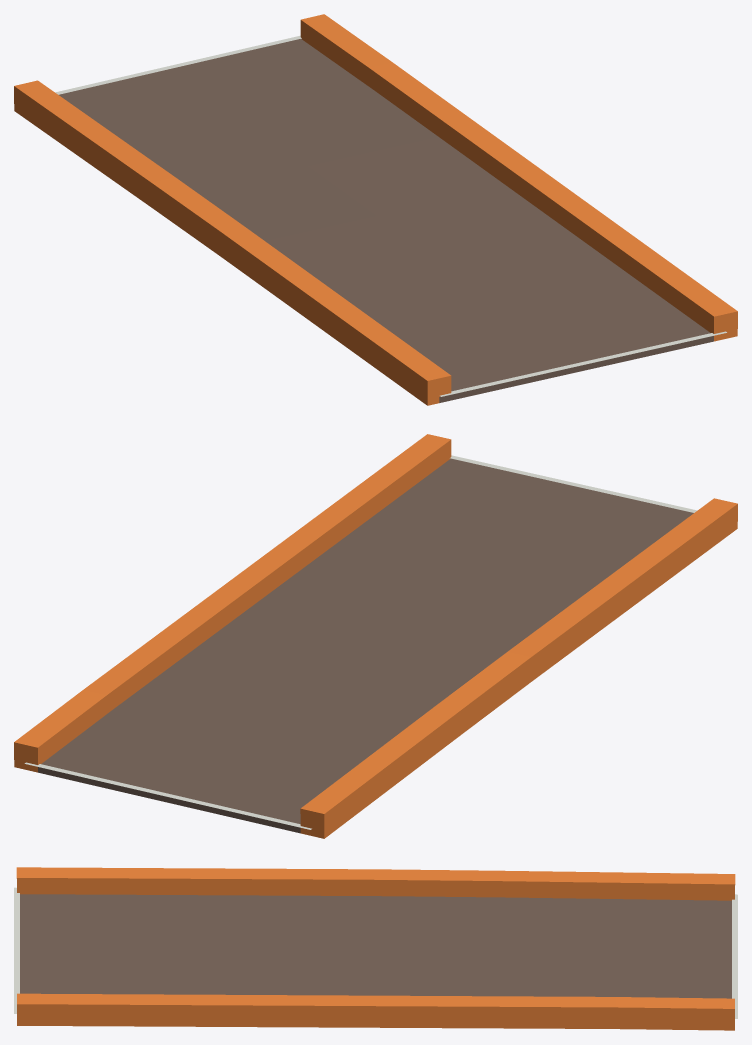
Rendered from SM_MP_Film_B_3_3.fbx.
3 renders of one model, top to bottom at view 1: azimuth 30°, elevation 25°; view 2: azimuth 150°, elevation 25°; view 3: azimuth 270°, elevation 25°, orthographic. The views are drawn at different scales.
Parts seen in each view (by area): view 1: SM_MP_Film_B_3_3; view 2: SM_MP_Film_B_3_3; view 3: SM_MP_Film_B_3_3.
Boxes of the visible parts, bbox=[...] form: SM_MP_Film_B_3_3: bbox=[14, 14, 737, 405]; SM_MP_Film_B_3_3: bbox=[14, 434, 737, 838]; SM_MP_Film_B_3_3: bbox=[14, 867, 737, 1030].
Size of what is drawn, in the model's own units: 260 by 605 by 29.3.
